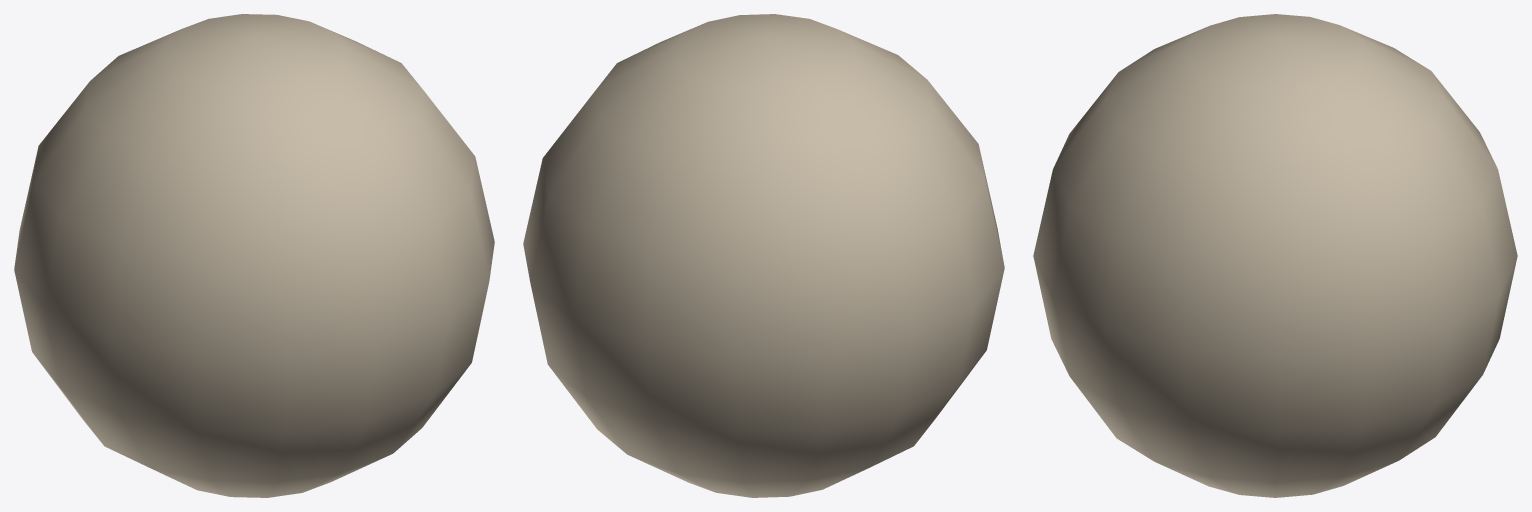
Rendered from ConjectureSpeculationNODE.gltf.
3 views of the same model, side by side, from view 1: azimuth 30°, elevation 25°; view 2: azimuth 150°, elevation 25°; view 3: azimuth 270°, elevation 25° (orthographic).
Parts seen in each view (by area): view 1: ConjectureSpeculationNODE; view 2: ConjectureSpeculationNODE; view 3: ConjectureSpeculationNODE.
Part boxes in pixels (x1=…): ConjectureSpeculationNODE: x1=14, y1=14, x2=494, y2=497; ConjectureSpeculationNODE: x1=523, y1=14, x2=1004, y2=497; ConjectureSpeculationNODE: x1=1033, y1=14, x2=1517, y2=497.
Size of the model in its own units: 0.5144 by 0.5144 by 0.5144.
